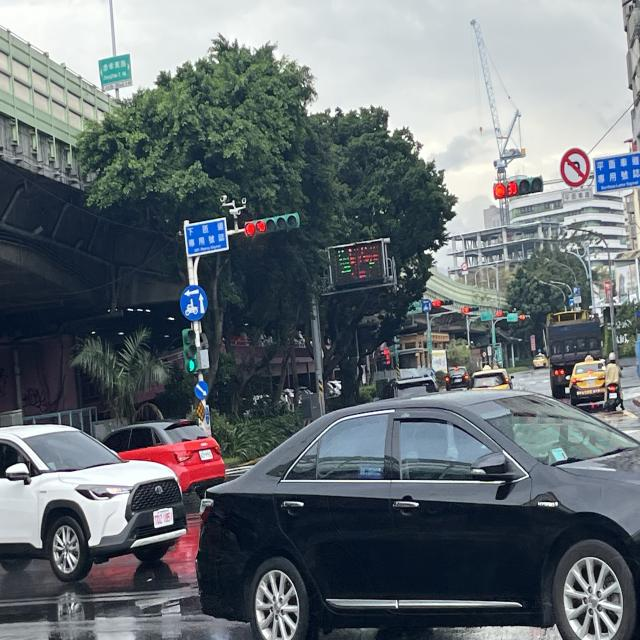green light: (184, 329, 197, 376)
red light: (243, 213, 301, 236), (492, 177, 544, 198), (431, 296, 455, 308), (462, 304, 481, 314), (496, 310, 507, 319), (519, 313, 529, 321)
